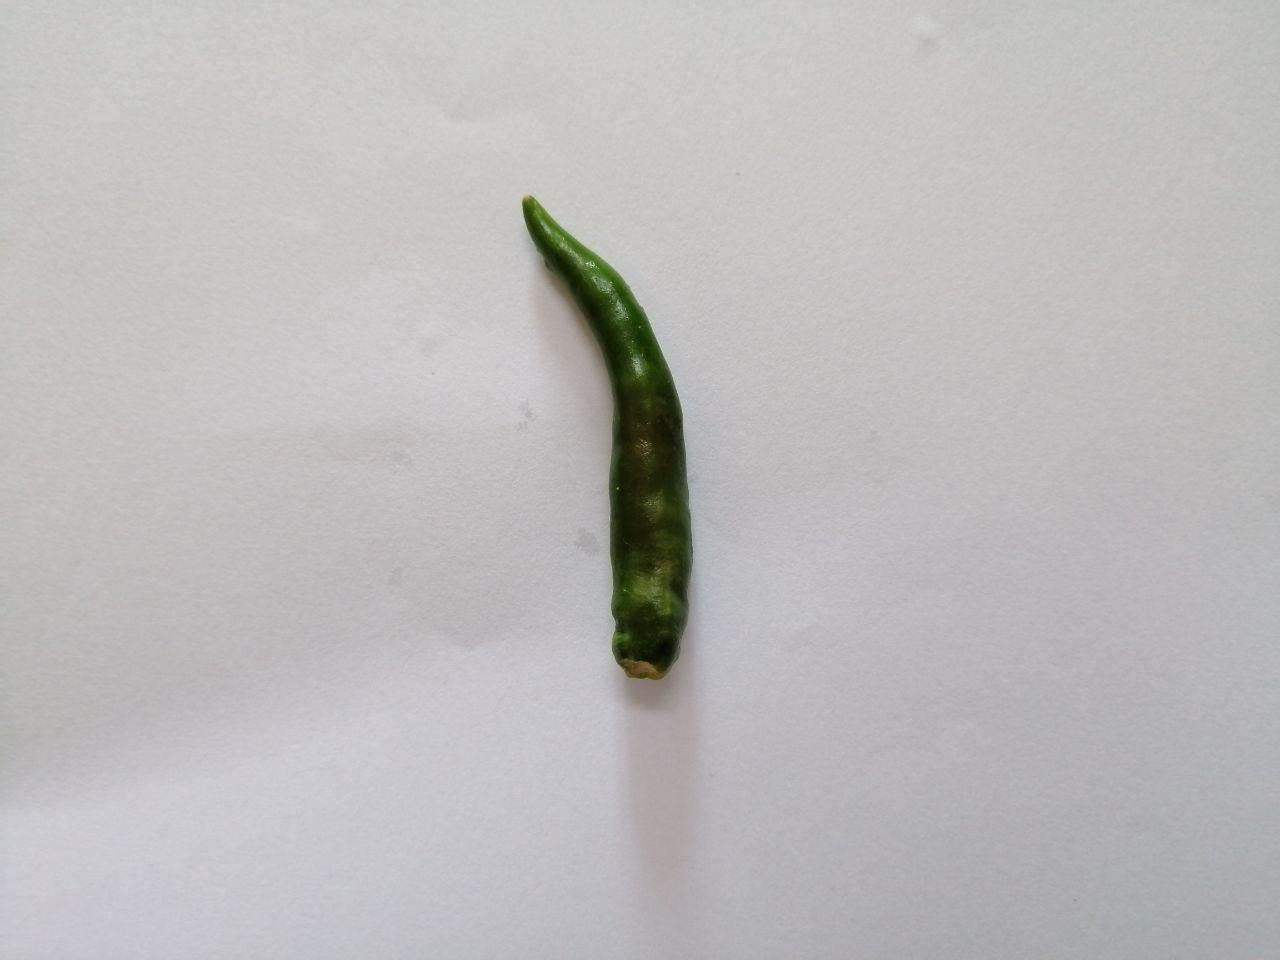lada hijau: (487, 181, 710, 703)
